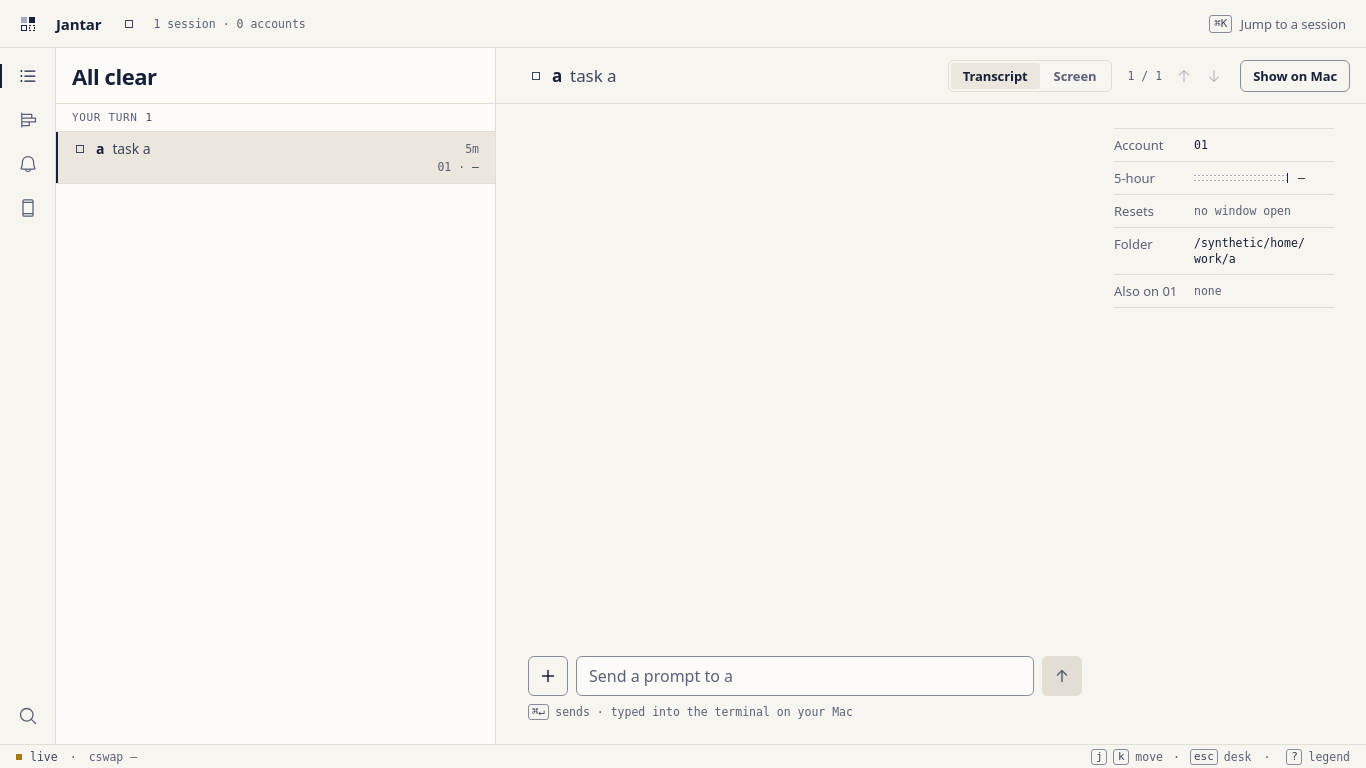
Test: composer and send receipts › warns about a merged prompt
This screenshot has width=1366, height=768.
Step 1. Type "hello" into the text box named "Prompt for Claude" → [805, 676], box [576,656,1034,696]
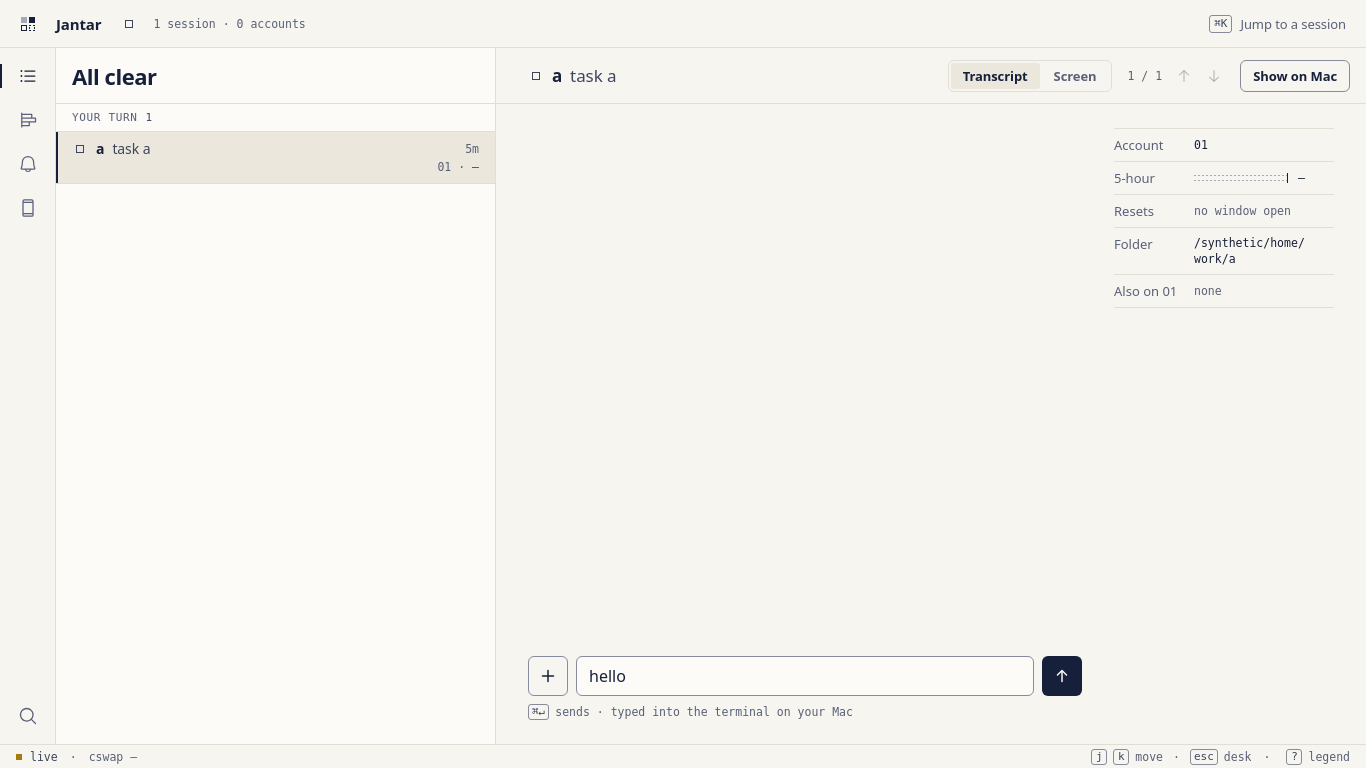
Step 2. Click the button named "Send" → [1062, 676], box [1042,656,1082,696]
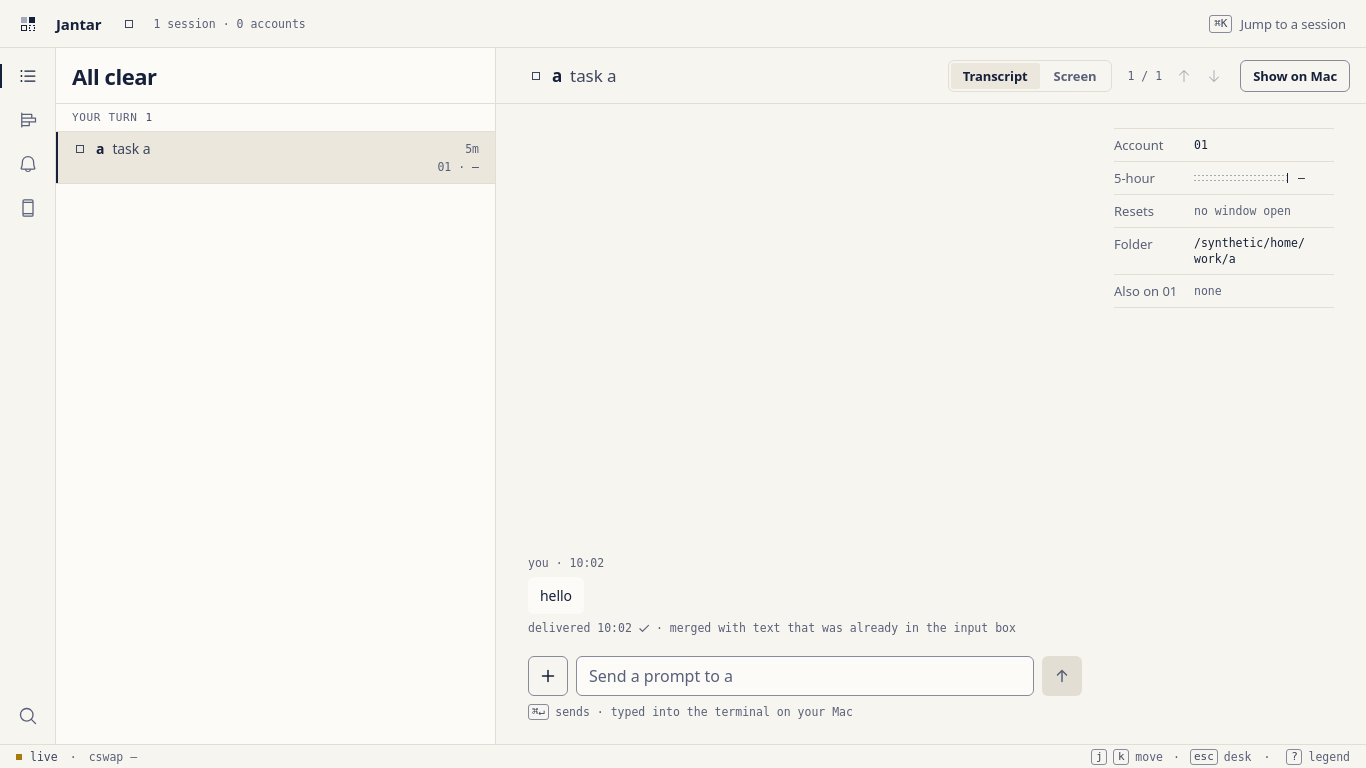
Expected: the text "· merged with text that was already in the input box" is shown, [656,620,1016,636]
